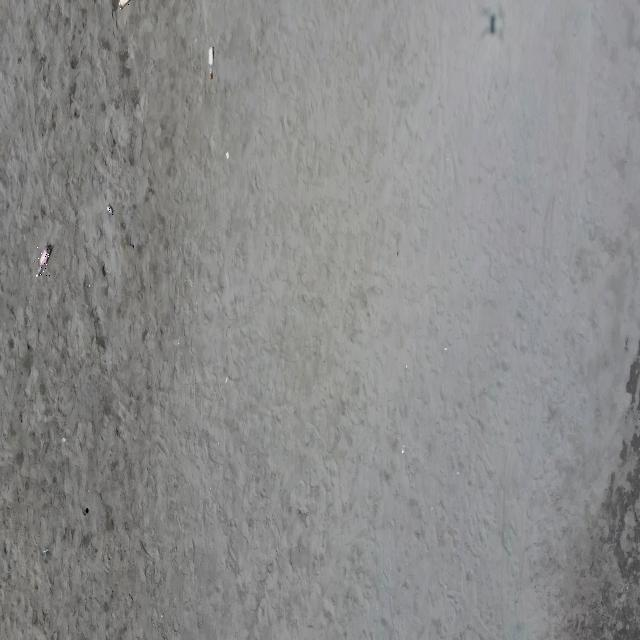glass: (36, 247, 50, 279), (208, 47, 214, 79), (118, 0, 132, 10), (107, 205, 113, 215)
